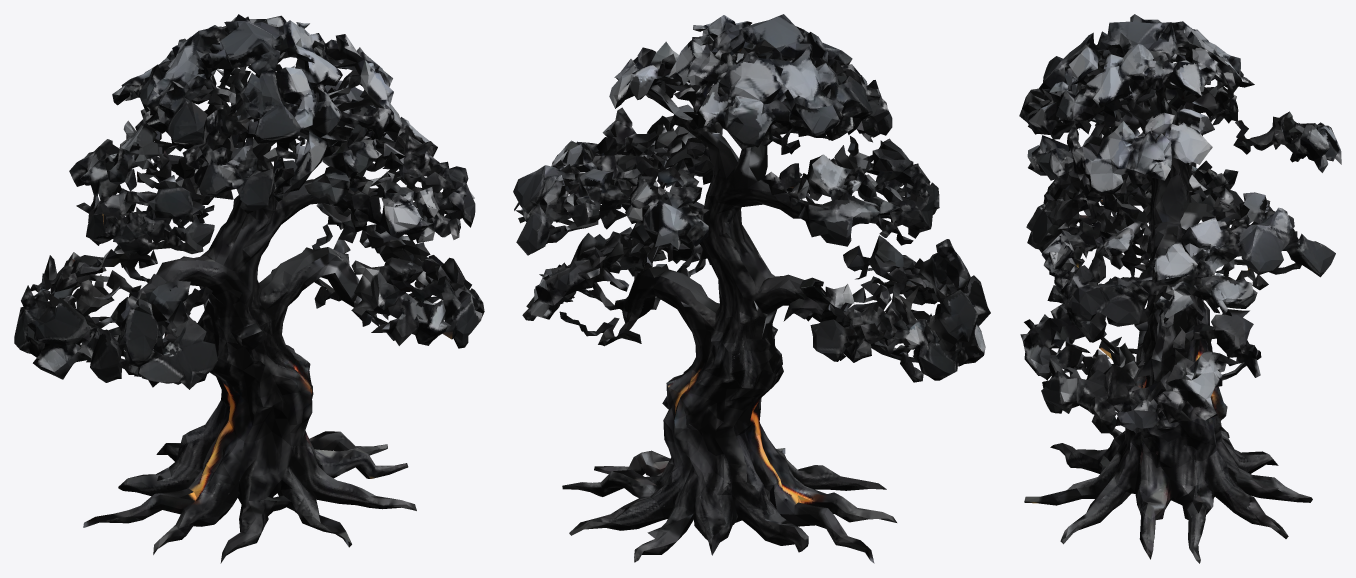
The model's file is traveler_env_coast_shadowlands_obsidian_tree_00001_.glb.
The picture shows the model from 3 angles, left to right: view 1: azimuth 30°, elevation 25°; view 2: azimuth 150°, elevation 25°; view 3: azimuth 270°, elevation 25°; orthographic projection. The views are drawn at different scales.
Visible parts, largest first — view 1: temp_mesh.ply; view 2: temp_mesh.ply; view 3: temp_mesh.ply.
Part boxes in pixels (x1,y1,x2,y2): temp_mesh.ply: (14,14,484,563); temp_mesh.ply: (513,14,990,563); temp_mesh.ply: (1019,14,1341,563).
Size of the model in its own units: 1.82 by 1.95 by 1.23.
1 material, 1 textured.
